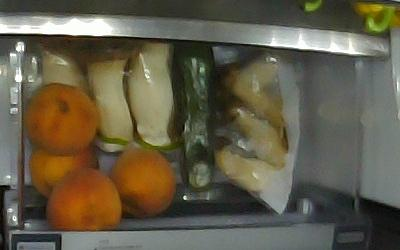peach: (25, 84, 97, 153), (47, 167, 120, 231), (110, 148, 177, 217)
